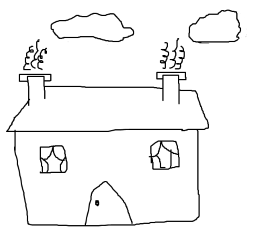clouds: (48, 12, 136, 43), (187, 8, 242, 44)
door: (79, 181, 137, 232)
open_window: (149, 140, 180, 170), (37, 144, 67, 173)
roof: (6, 85, 210, 132)
smoking_chimney: (13, 38, 55, 104), (155, 35, 192, 104)
wall: (14, 128, 202, 229)
